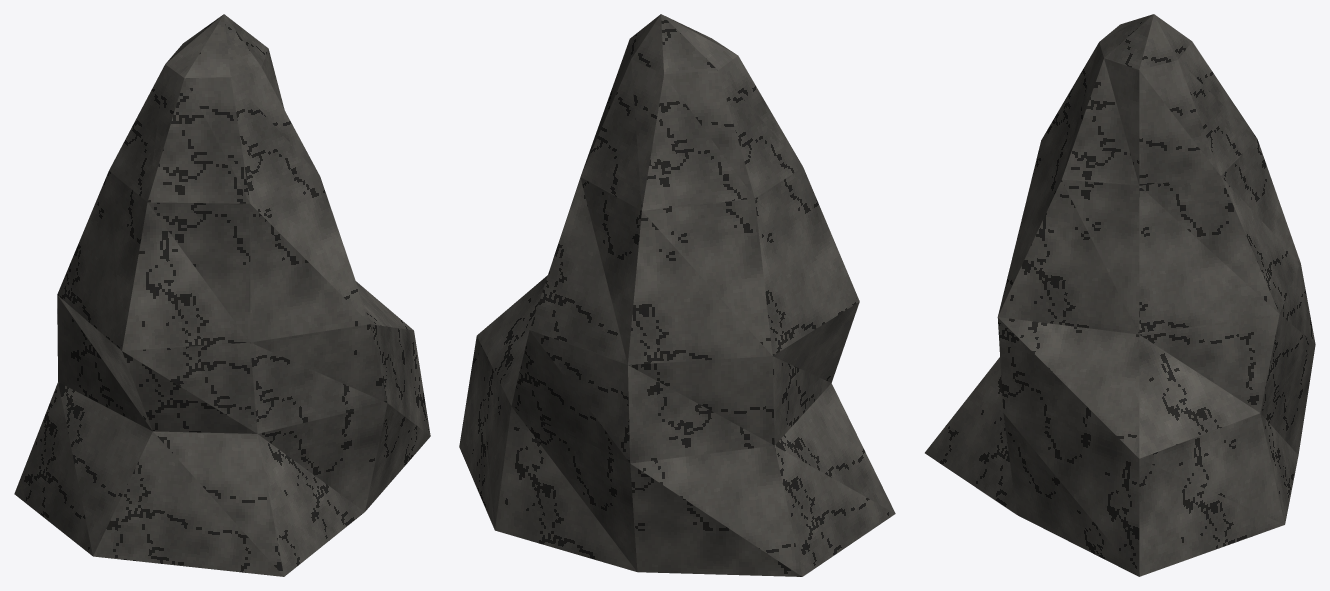
File: cliff_b.glb
3 views of the same model, side by side, from view 1: azimuth 30°, elevation 25°; view 2: azimuth 150°, elevation 25°; view 3: azimuth 270°, elevation 25° (orthographic). The views are drawn at different scales.
Visible parts, largest first — view 1: rock-col; view 2: rock-col; view 3: rock-col.
Part boxes in pixels (box(x1,y1,x2,y2)): rock-col: box(14, 14, 430, 576); rock-col: box(459, 14, 895, 576); rock-col: box(925, 14, 1315, 576).
Size of the model in its own units: 13.23 by 15.65 by 11.91.
1 material, 1 textured.
